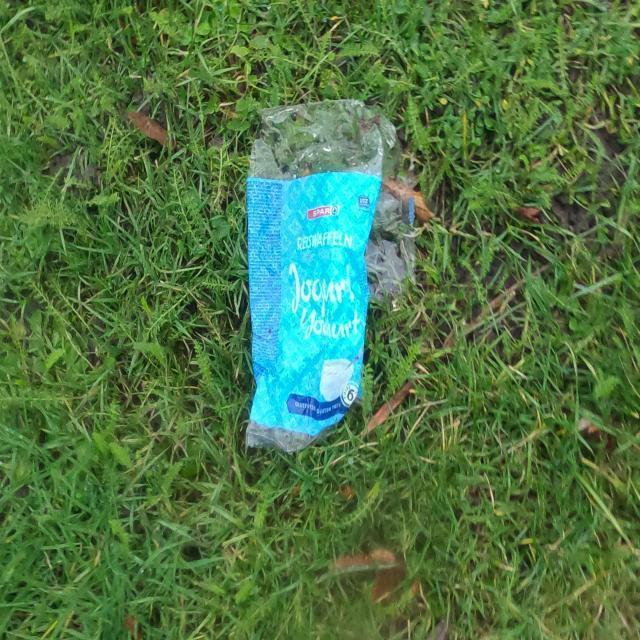Plastic: (242, 94, 396, 462)
